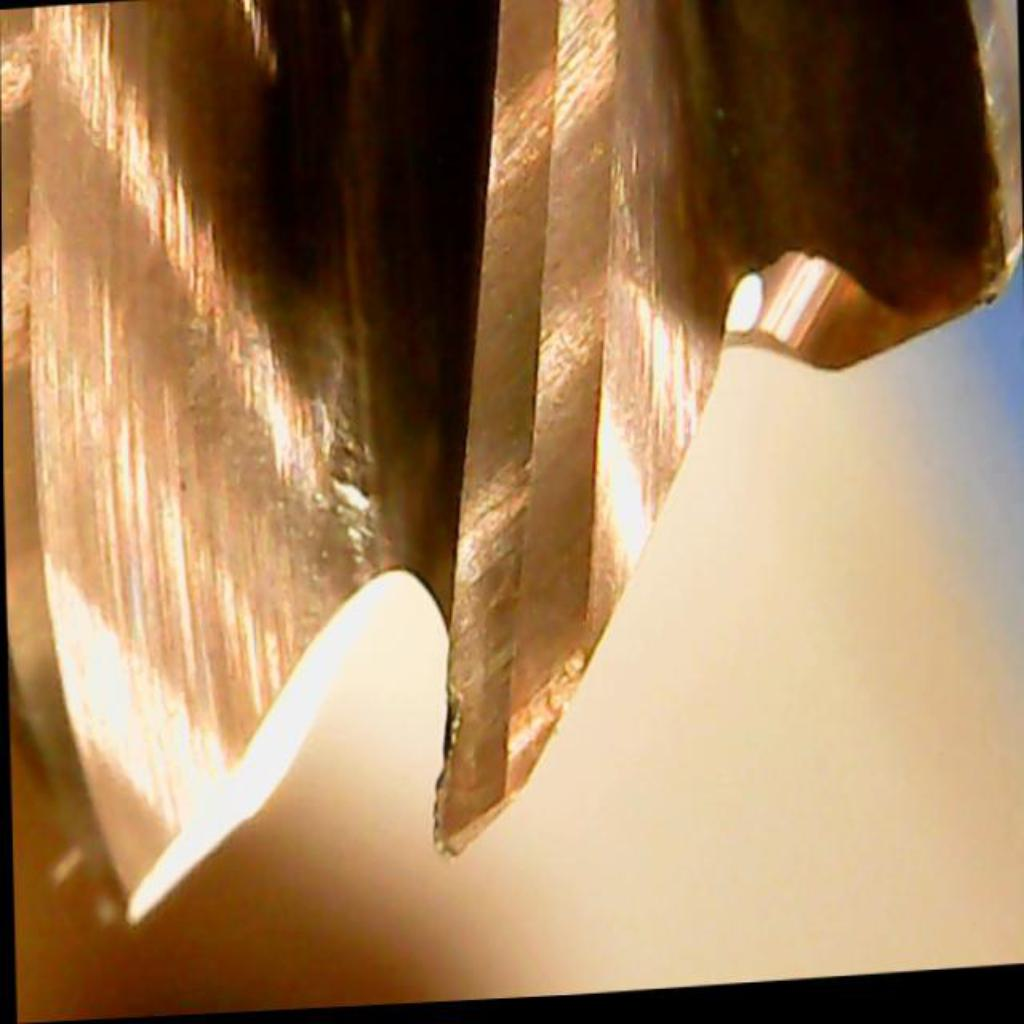Tool-wear-class-1: (415, 412, 616, 881)
